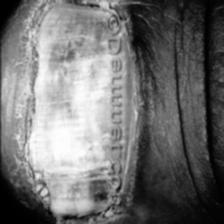Toxin: (26, 0, 126, 222)
